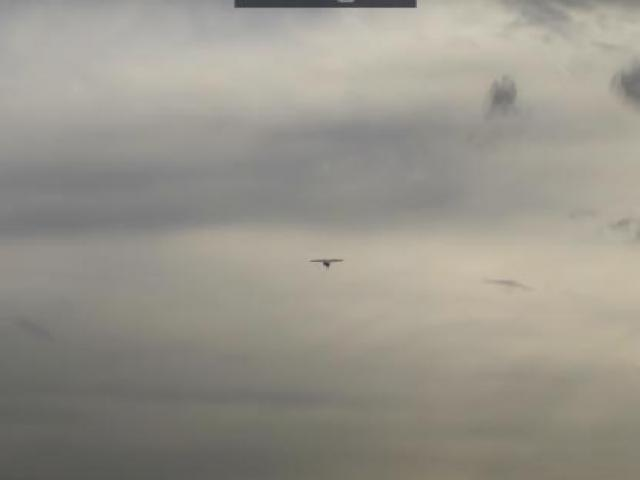uav: (304, 249, 348, 274)
